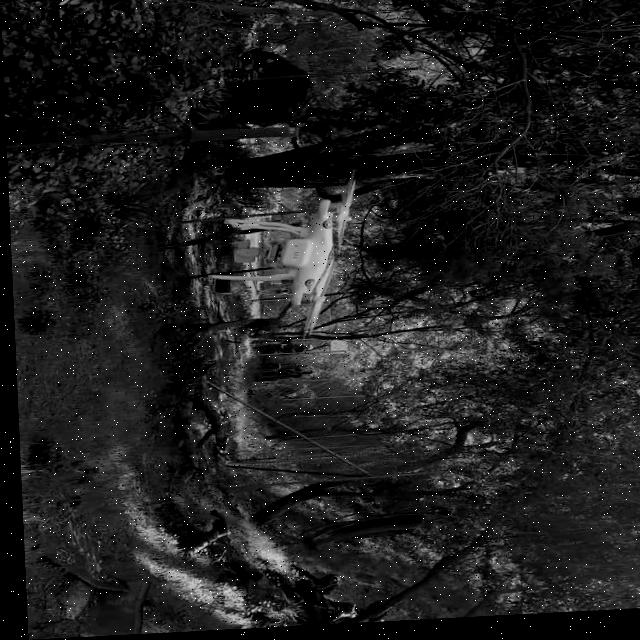drone: (201, 172, 364, 342)
